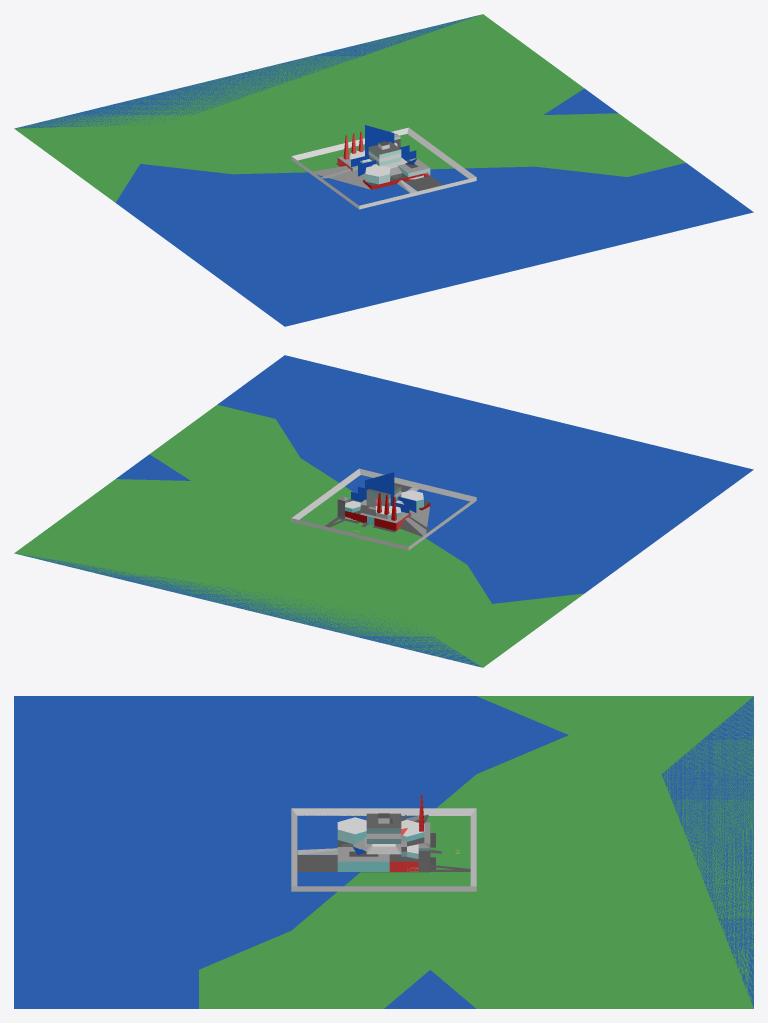
3 views of the same model, one above another, from view 1: azimuth 30°, elevation 25°; view 2: azimuth 150°, elevation 25°; view 3: azimuth 270°, elevation 25° (orthographic). The views are drawn at different scales.
Visible parts, largest first — view 1: ku_002_lod0, ku_001_lod0, ku_003_lod0, ku_043_lod0, ku_091_lod0, ku_010_lod0, ku_043_lod0_s1v0, ku_081_lod0; view 2: ku_002_lod0, ku_003_lod0, ku_001_lod0, ku_043_lod0, ku_043_lod0_s1v0, ku_010_lod0, ku_009_lod0; view 3: ku_002_lod0, ku_003_lod0, ku_001_lod0, ku_043_lod0, ku_081_lod0, ku_032_lod0, ku_009_lod0, ku_095_lod0, ku_084_lod0, ku_009_lod0_s1v0.
Part boxes in pixels (<box>): ku_002_lod0: <box>17,14,753,326</box>; ku_001_lod0: <box>14,15,685,202</box>; ku_003_lod0: <box>18,14,617,169</box>; ku_043_lod0: <box>291,127,476,209</box>; ku_091_lod0: <box>351,145,429,189</box>; ku_010_lod0: <box>313,166,401,189</box>; ku_043_lod0_s1v0: <box>365,125,407,168</box>; ku_081_lod0: <box>338,135,430,177</box>; ku_002_lod0: <box>15,355,753,667</box>; ku_003_lod0: <box>14,454,480,666</box>; ku_001_lod0: <box>16,404,583,667</box>; ku_043_lod0: <box>291,468,476,550</box>; ku_043_lod0_s1v0: <box>361,472,403,505</box>; ku_010_lod0: <box>400,506,429,536</box>; ku_009_lod0: <box>339,499,411,532</box>; ku_002_lod0: <box>14,696,753,1008</box>; ku_003_lod0: <box>292,697,753,1008</box>; ku_001_lod0: <box>199,696,753,1008</box>; ku_043_lod0: <box>291,808,476,891</box>; ku_081_lod0: <box>337,794,430,871</box>; ku_032_lod0: <box>297,850,470,871</box>; ku_009_lod0: <box>361,833,435,872</box>; ku_095_lod0: <box>366,813,401,848</box>; ku_084_lod0: <box>337,824,429,871</box>; ku_009_lod0_s1v0: <box>337,817,406,856</box>.
Size of what is drawn, in the model's own units: 4096 by 384 by 4096.
